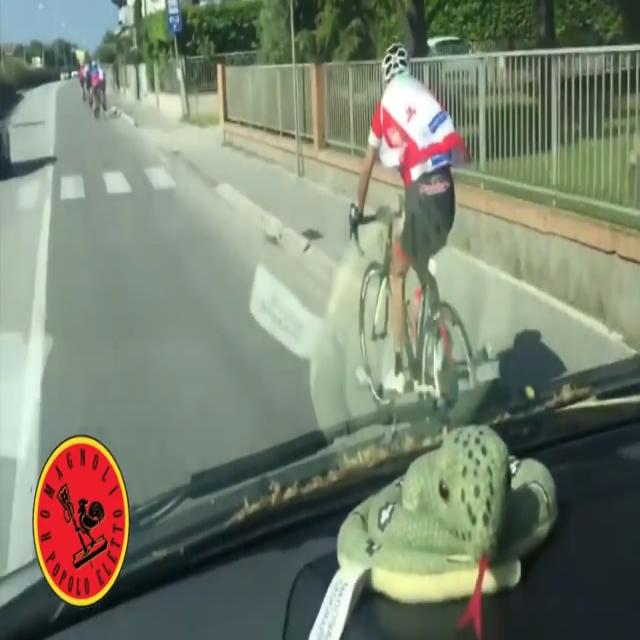Pedestrian crosswalk: (8, 161, 188, 214)
